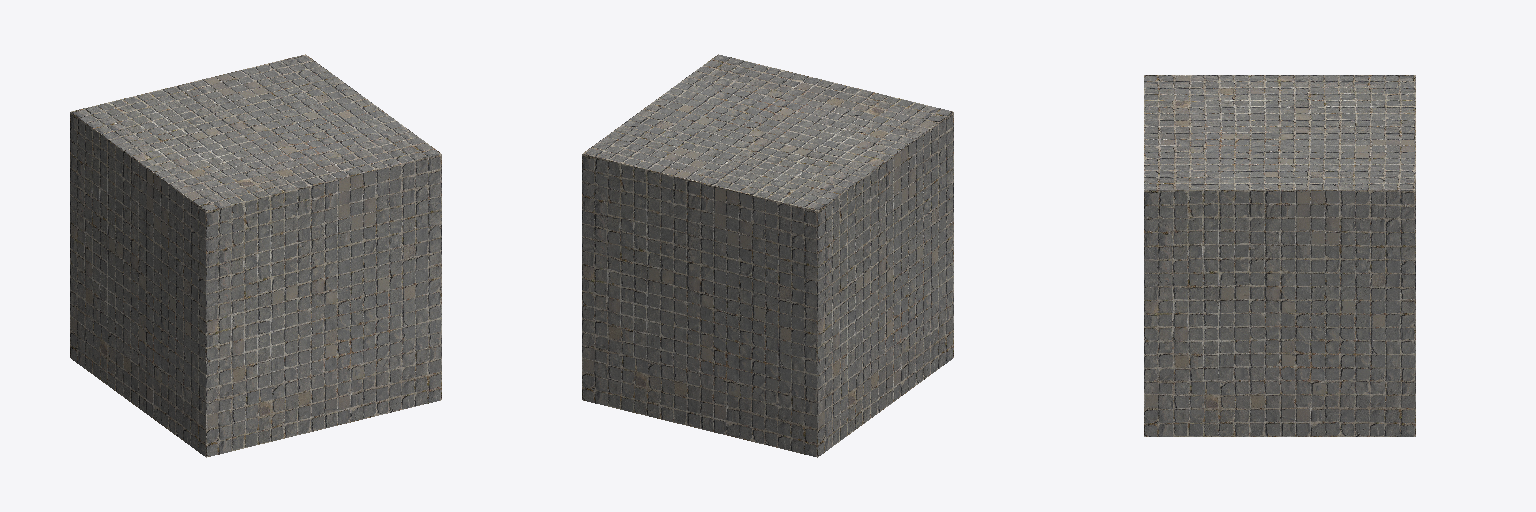
3 views of the same model, side by side, from view 1: azimuth 30°, elevation 25°; view 2: azimuth 150°, elevation 25°; view 3: azimuth 270°, elevation 25° (orthographic).
Visible parts, largest first — view 1: cube; view 2: cube; view 3: cube.
Boxes of the visible parts, box(x1,y1,x2,y2) form: cube: box(70, 54, 441, 457); cube: box(582, 54, 953, 457); cube: box(1144, 75, 1415, 436).
Bounding box in the file's own units: 20 × 20 × 20.
1 materials, 1 textured.